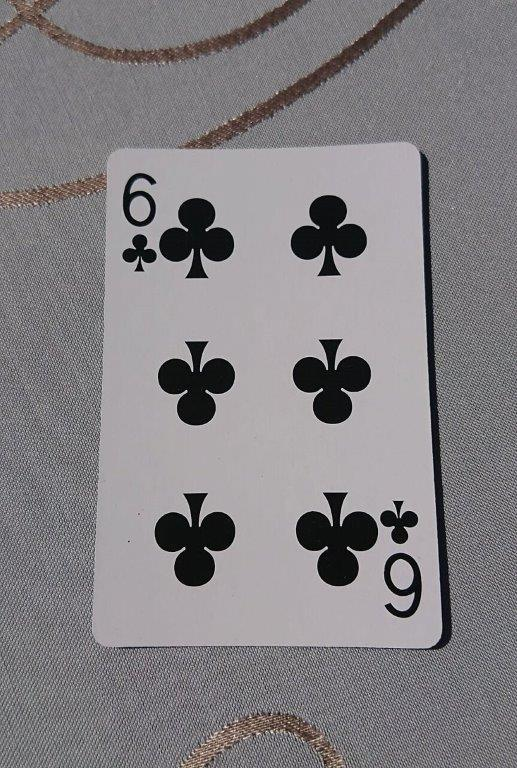6C: (89, 141, 446, 650)
